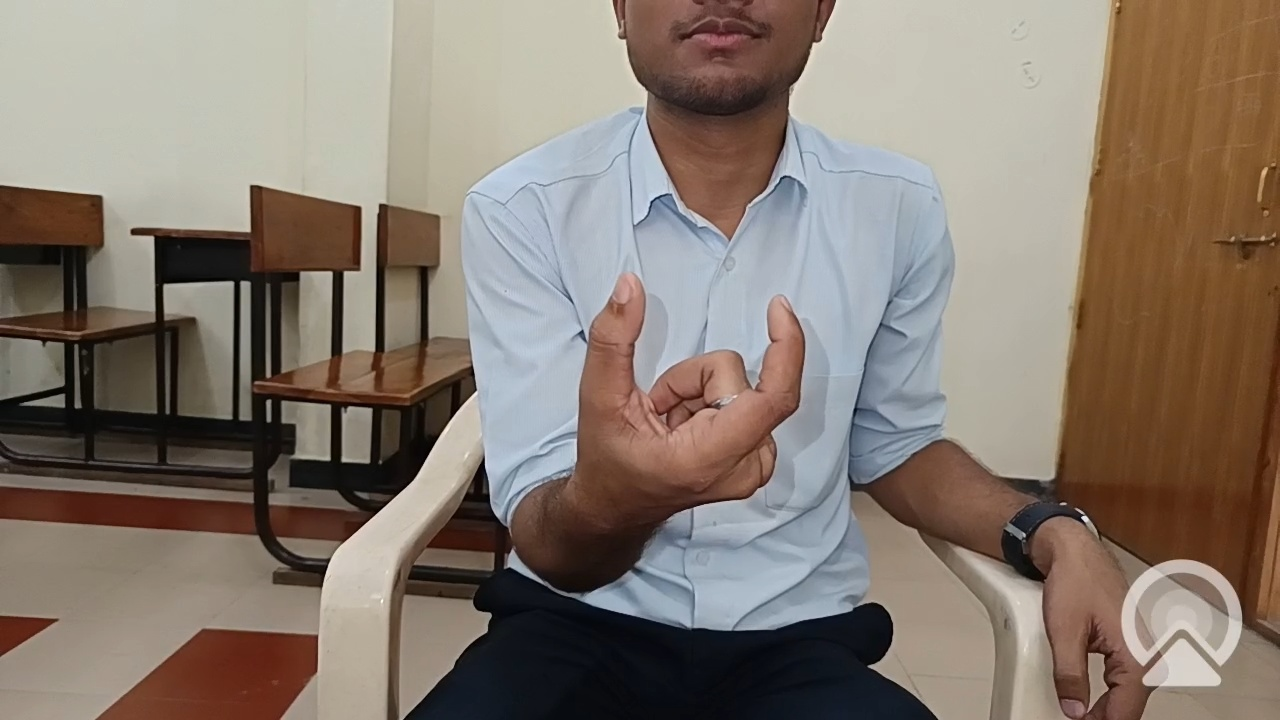U: (466, 210, 829, 575)
